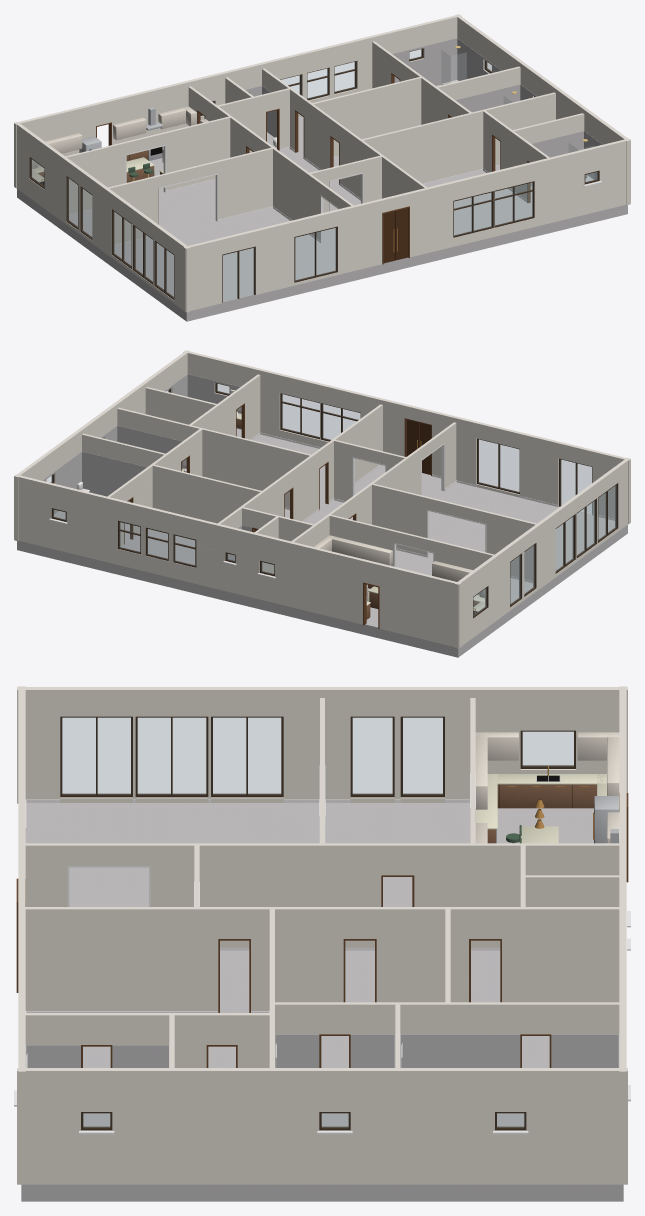
File: int_est_S8_0.glb
3 views of the same model, one above another, from view 1: azimuth 30°, elevation 25°; view 2: azimuth 150°, elevation 25°; view 3: azimuth 270°, elevation 25° (orthographic). The views are drawn at different scales.
Visible parts, largest first — view 1: WALL_0, ROOM, WALL_9, WALL_1, WALL_3, WALL_11, WALL_14, WALL_8, WALL_6, WALL_2, WALL_4, WALL_12 (+5 smaller); view 2: WALL_9, ROOM, WALL_0, WALL_1, WALL_3, WALL_11, WALL_6, WALL_14, WALL_2, WALL_8, WALL_12, WALL_4 (+6 smaller); view 3: WALL_2, ROOM, WALL_1, WALL_6, WALL_4, WALL_3, WALL_14, WALL_12, WALL_9, WALL_0, WALL_10, WALL_11 (+1 smaller).
Part boxes in pixels (left/top/right/bottom): WALL_0: left=183, top=138, right=630, bottom=312; ROOM: left=17, top=38, right=627, bottom=321; WALL_9: left=14, top=14, right=461, bottom=187; WALL_1: left=14, top=121, right=189, bottom=312; WALL_3: left=108, top=86, right=353, bottom=244; WALL_11: left=362, top=92, right=555, bottom=183; WALL_14: left=312, top=41, right=471, bottom=156; WALL_8: left=65, top=116, right=231, bottom=213; WALL_6: left=249, top=68, right=426, bottom=198; WALL_2: left=455, top=14, right=630, bottom=205; WALL_4: left=188, top=99, right=338, bottom=242; WALL_12: left=483, top=110, right=549, bottom=202; WALL_9: left=14, top=474, right=461, bottom=648; ROOM: left=17, top=374, right=627, bottom=657; WALL_0: left=183, top=350, right=630, bottom=523; WALL_1: left=455, top=457, right=630, bottom=648; WALL_3: left=291, top=422, right=536, bottom=581; WALL_11: left=117, top=407, right=310, bottom=508; WALL_6: left=196, top=404, right=382, bottom=560; WALL_14: left=107, top=428, right=261, bottom=523; WALL_2: left=14, top=350, right=189, bottom=541; WALL_8: left=328, top=514, right=494, bottom=594; WALL_12: left=189, top=374, right=260, bottom=439; WALL_4: left=306, top=435, right=456, bottom=546; WALL_2: left=17, top=1068, right=627, bottom=1184; ROOM: left=21, top=732, right=623, bottom=1201; WALL_1: left=17, top=687, right=627, bottom=803; WALL_6: left=25, top=907, right=619, bottom=1012; WALL_4: left=25, top=866, right=619, bottom=947; WALL_3: left=25, top=698, right=619, bottom=865; WALL_14: left=272, top=909, right=619, bottom=1034; WALL_12: left=25, top=1013, right=272, bottom=1067; WALL_9: left=619, top=686, right=630, bottom=1184; WALL_0: left=14, top=686, right=25, bottom=1184; WALL_10: left=525, top=875, right=619, bottom=906; WALL_11: left=269, top=909, right=274, bottom=1067.
Bounding box in the file's own units: 26.51 × 4.2 × 17.83.
16 materials, 1 textured.
